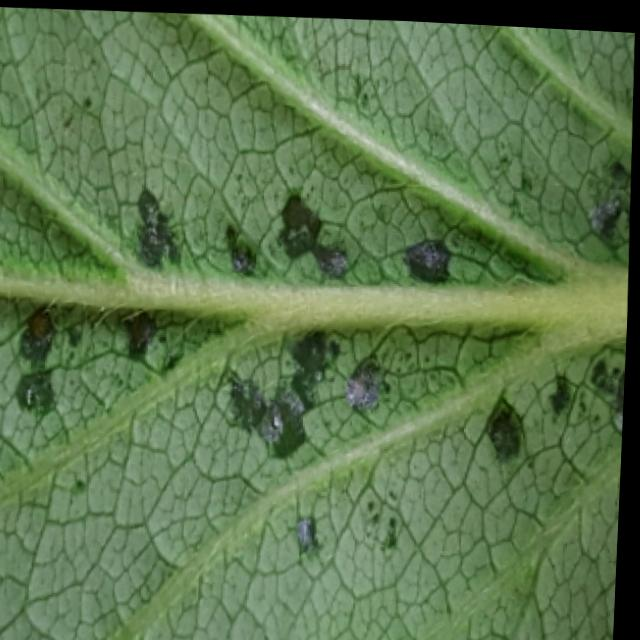Angular Leafspot: (0, 58, 633, 566)
